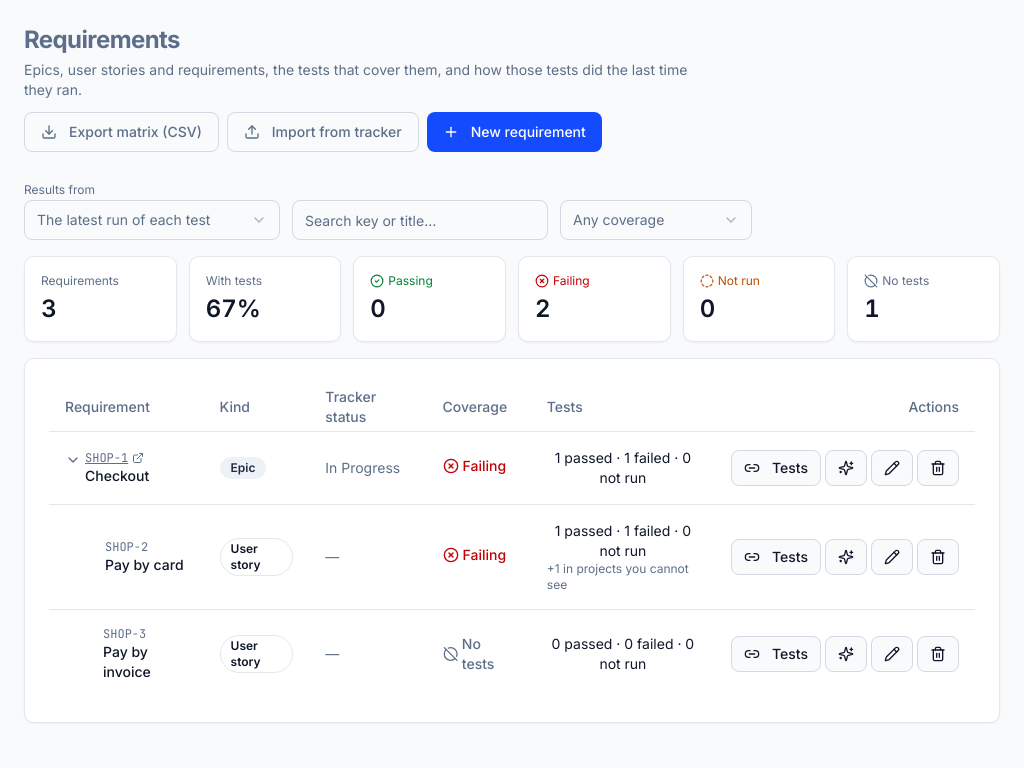
Test case: RequirementsPage › shows the tree with each coverage in words, and the numbers above it
Expected: the text "Failing" in the row of "SHOP-1" is shown, top-left (462, 457), bottom-right (506, 474)
Expected: the text "In Progress" is shown, top-left (309, 431), bottom-right (426, 504)
// Collapsing the epic hides its stories.
Click the button named "Hide what it contains".
click(73, 460)  # box top-left (65, 452), bottom-right (81, 468)
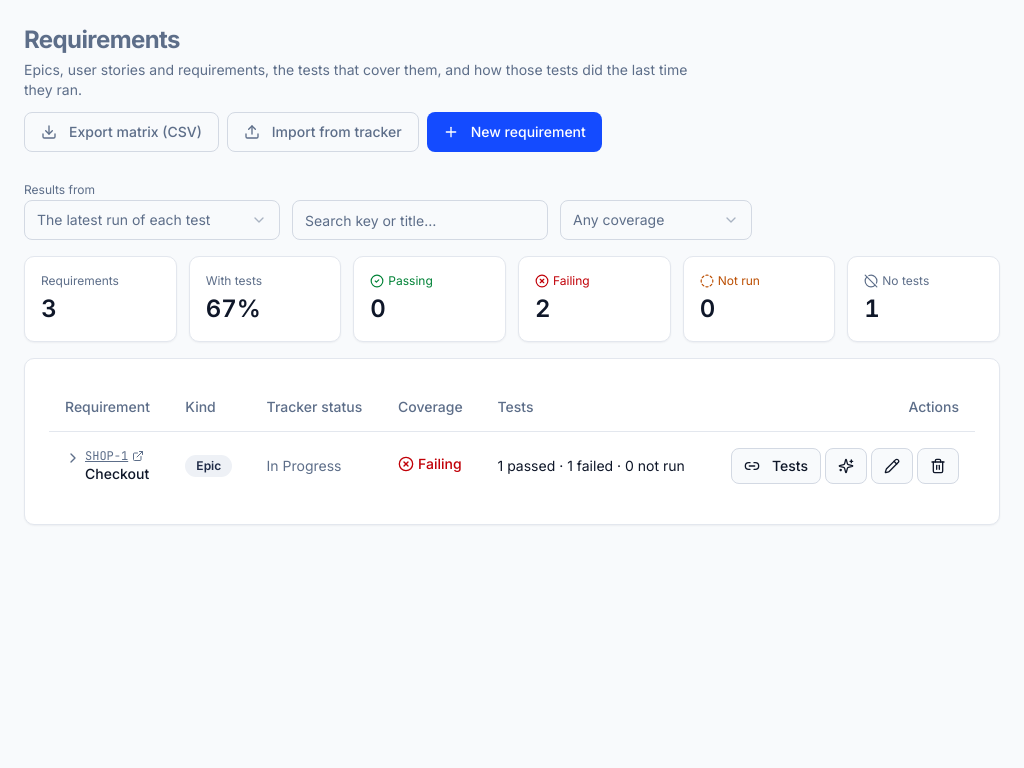
Result: the row with test id "requirement-SHOP-2" is gone
